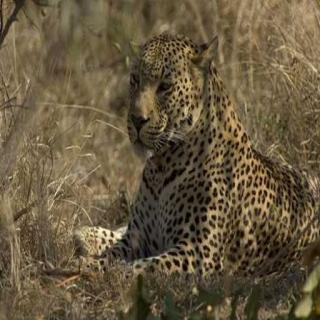-: (120, 28, 320, 296)
